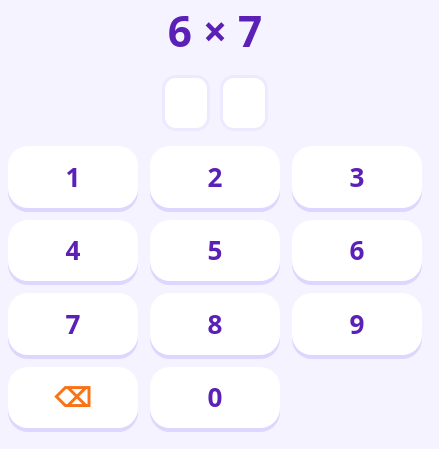
Test: ProblemCard › disables the keypad while a submission is pending, so no further taps register
What coordinates should you click on to do the following:
click the button named "Digit 4"
I would click on:
 (73, 250)
Its box is top-left (8, 220), bottom-right (138, 281).
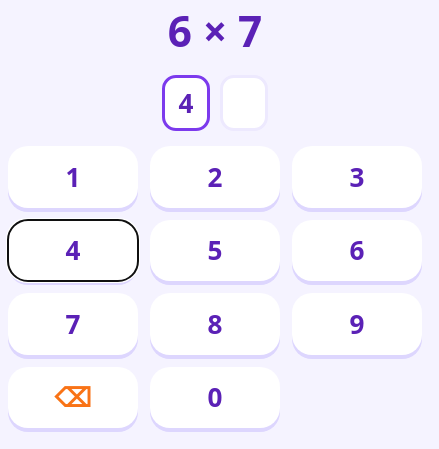
What coordinates should you click on to do the following:
click the button named "Digit 2"
I would click on:
 (215, 177)
Its box is top-left (150, 146), bottom-right (280, 208).
Wait 400 ms
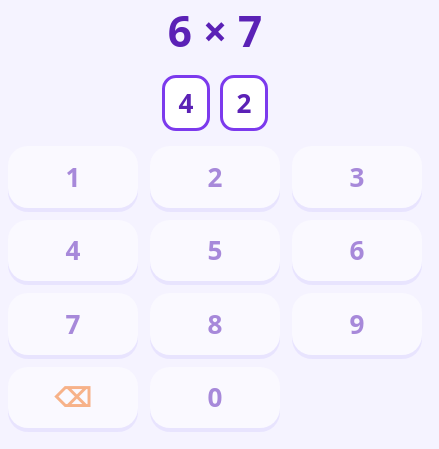
expect the button named "Digit 1" is disabled: met, box top-left (8, 146), bottom-right (138, 208)
expect the button named "Backspace" is disabled: met, box top-left (8, 367), bottom-right (138, 428)
